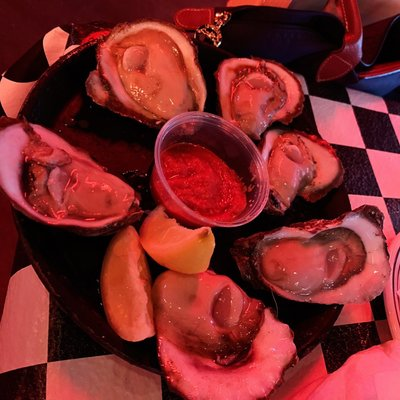taco: (150, 111, 270, 229), (138, 204, 215, 275)
